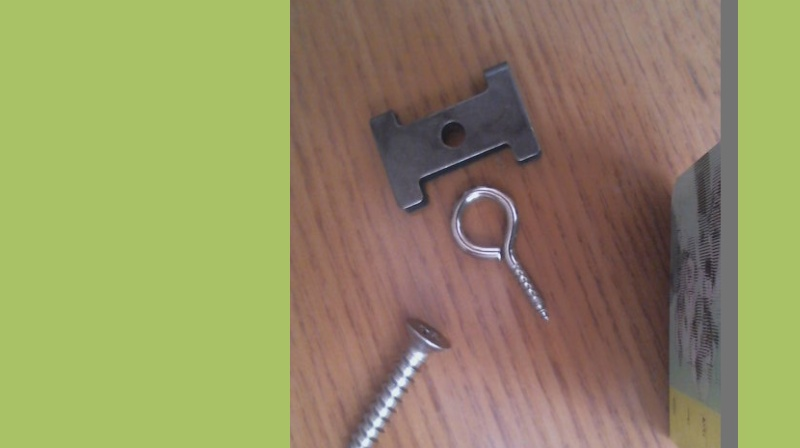O001: (448, 182, 553, 323)
O002: (366, 57, 544, 213)
S001: (340, 314, 454, 447)
